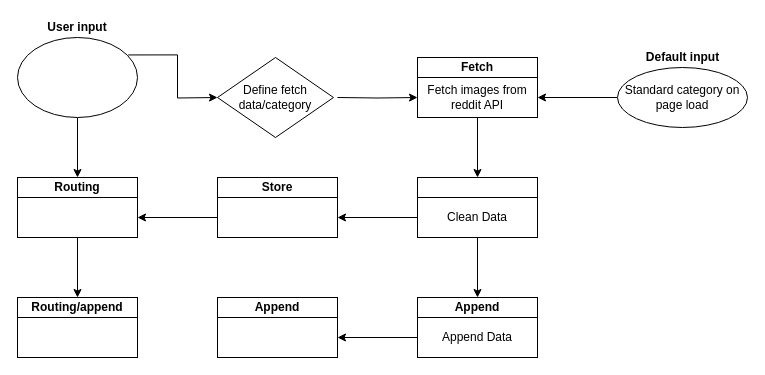
Image size: 765x375. Some labels were removed from this diagram. Each missing label, with the centre of its shape:
Get correct image data: the point at 77,217
Load data into detail page: the point at 77,337
Select category Click on image: the point at 77,77
Show data in overview page: the point at 277,337
Store data to JSON: the point at 277,217
Transform: the point at 477,187
